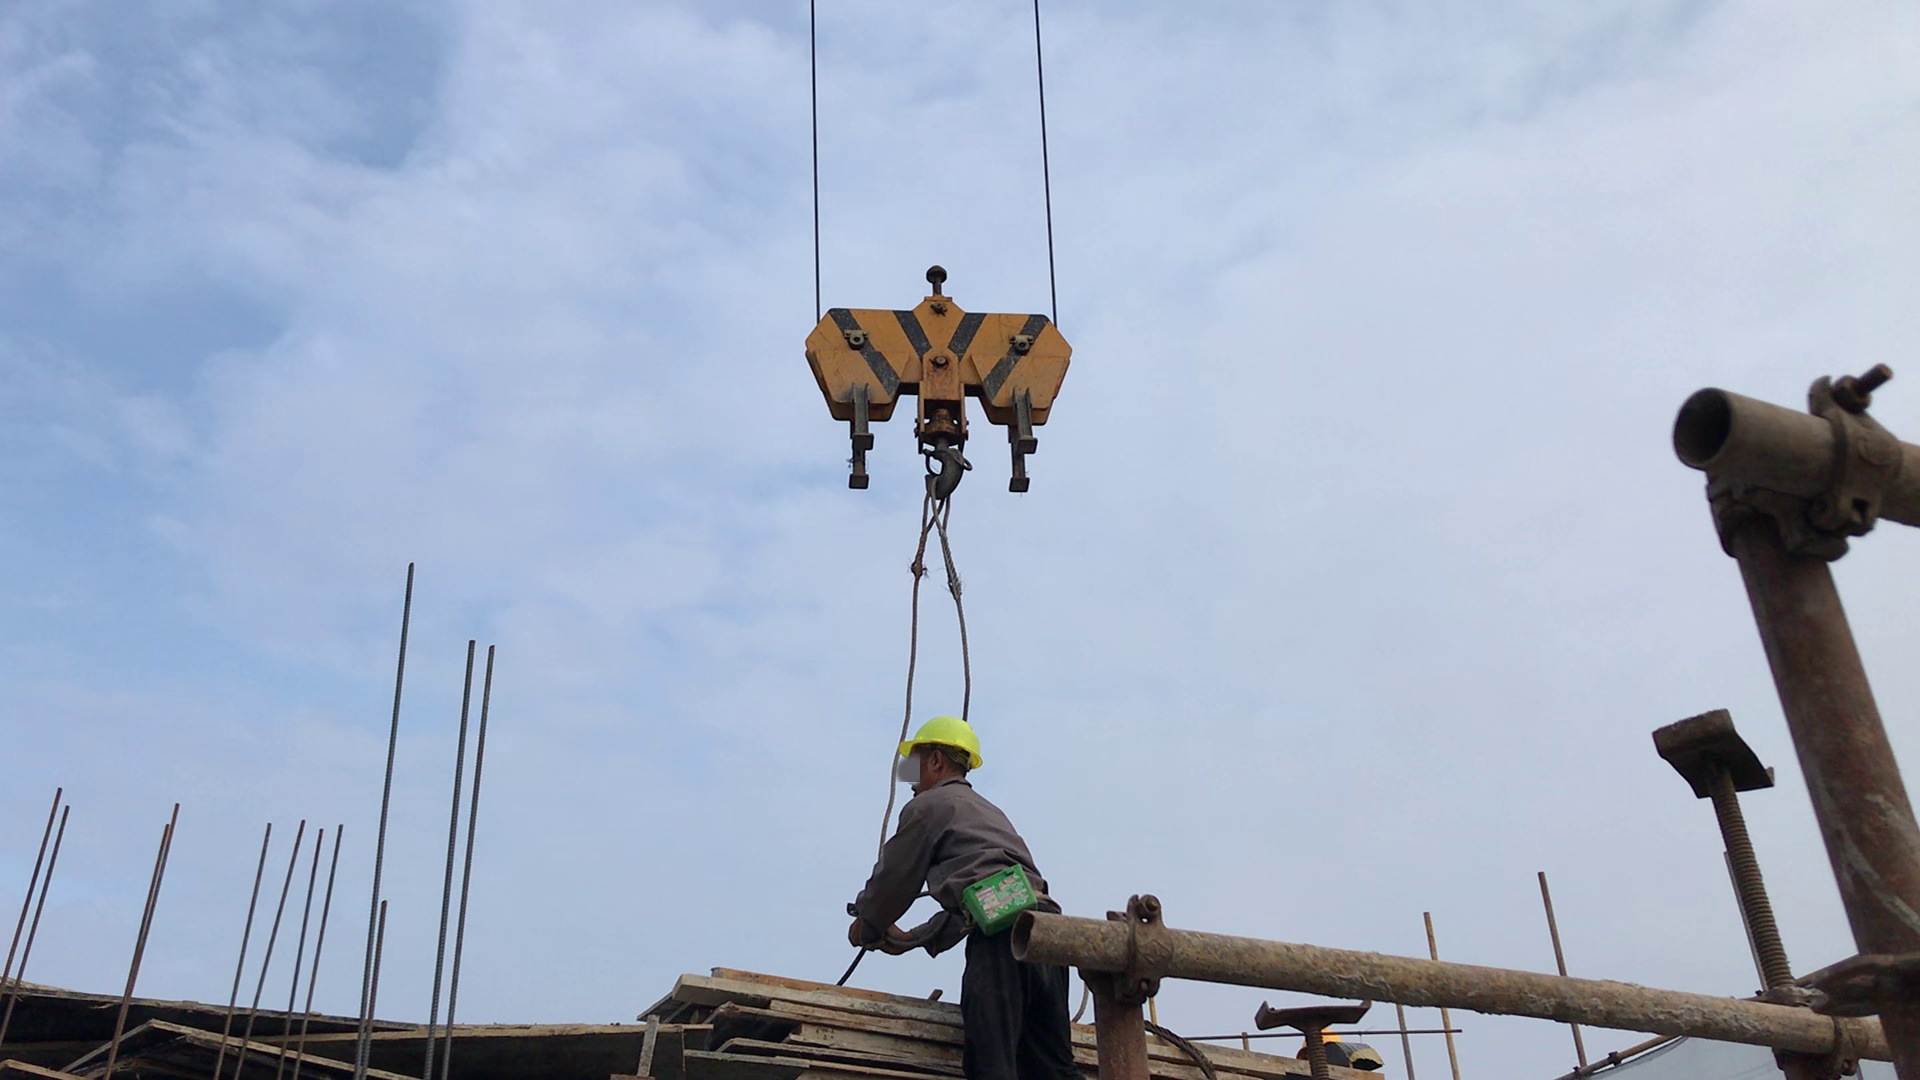board: (623, 963, 958, 1080)
helmet: (893, 716, 985, 768)
hook: (793, 257, 1080, 502)
person: (837, 713, 1083, 1080)
